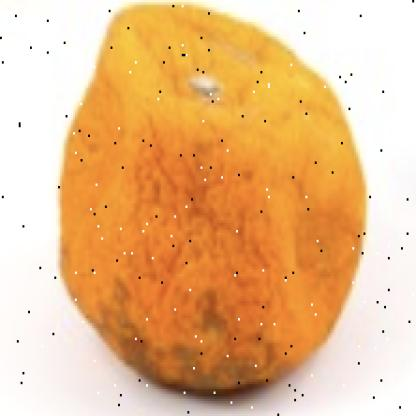rotten: (59, 8, 366, 394)
